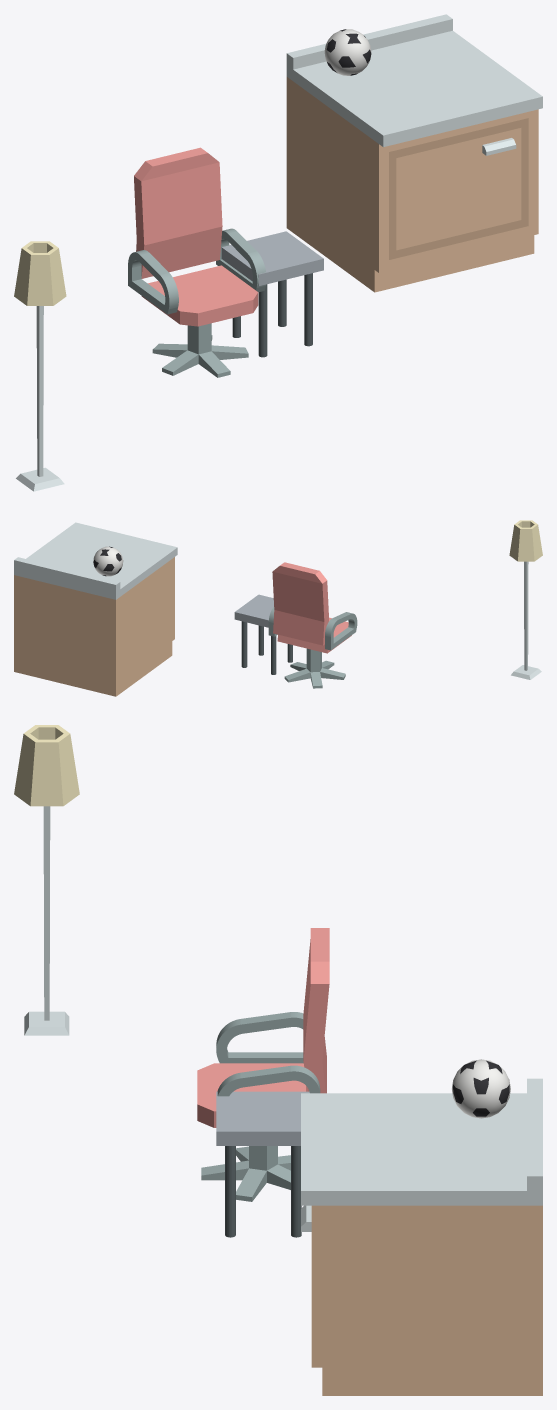
3 views of the same model, one above another, from view 1: azimuth 30°, elevation 25°; view 2: azimuth 150°, elevation 25°; view 3: azimuth 270°, elevation 25° (orthographic). The views are drawn at different scales.
Visible parts, largest first — view 1: cabinet_blue__kitchenCabinet(Clone), deskchair_black__chair, cabinet_blue__door, lamp_white__lampRoundFloor(Clone), stool_purple__stool_purple seat, deskchair_black__chairDesk(Clone), soccer_white__soccer_white, stool_purple__stool_purple leg, stool_purple__stool_purple leg.002; view 2: cabinet_blue__kitchenCabinet(Clone), deskchair_black__chair, lamp_white__lampRoundFloor(Clone), deskchair_black__chairDesk(Clone), stool_purple__stool_purple seat, soccer_white__soccer_white, stool_purple__stool_purple leg.003, stool_purple__stool_purple leg.001; view 3: cabinet_blue__kitchenCabinet(Clone), deskchair_black__chair, lamp_white__lampRoundFloor(Clone), stool_purple__stool_purple seat, soccer_white__soccer_white, deskchair_black__chairDesk(Clone), stool_purple__stool_purple leg.002, stool_purple__stool_purple leg.003.
Part boxes in pixels (bbox=[...]): cabinet_blue__kitchenCabinet(Clone): bbox=[286, 14, 542, 292]; deskchair_black__chair: bbox=[128, 147, 266, 326]; cabinet_blue__door: bbox=[389, 118, 528, 259]; lamp_white__lampRoundFloor(Clone): bbox=[14, 241, 66, 491]; stool_purple__stool_purple seat: bbox=[221, 231, 323, 285]; deskchair_black__chairDesk(Clone): bbox=[152, 323, 248, 377]; soccer_white__soccer_white: bbox=[324, 29, 371, 75]; stool_purple__stool_purple leg: bbox=[258, 284, 267, 357]; stool_purple__stool_purple leg.002: bbox=[304, 273, 312, 346]; cabinet_blue__kitchenCabinet(Clone): bbox=[14, 522, 177, 696]; deskchair_black__chair: bbox=[268, 562, 357, 653]; lamp_white__lampRoundFloor(Clone): bbox=[509, 520, 542, 679]; deskchair_black__chairDesk(Clone): bbox=[284, 648, 345, 688]; stool_purple__stool_purple seat: bbox=[234, 594, 273, 627]; soccer_white__soccer_white: bbox=[93, 546, 123, 576]; stool_purple__stool_purple leg.003: bbox=[241, 621, 247, 667]; stool_purple__stool_purple leg.001: bbox=[271, 636, 276, 674]; cabinet_blue__kitchenCabinet(Clone): bbox=[301, 1078, 542, 1395]; deskchair_black__chair: bbox=[197, 928, 329, 1127]; lamp_white__lampRoundFloor(Clone): bbox=[14, 725, 79, 1035]; stool_purple__stool_purple seat: bbox=[216, 1091, 309, 1145]; soccer_white__soccer_white: bbox=[452, 1059, 510, 1118]; deskchair_black__chairDesk(Clone): bbox=[201, 1146, 290, 1201]; stool_purple__stool_purple leg.002: bbox=[225, 1146, 235, 1237]; stool_purple__stool_purple leg.003: bbox=[291, 1146, 301, 1237].
Size of the model in its own units: 3.36 by 1.2 by 1.97.
